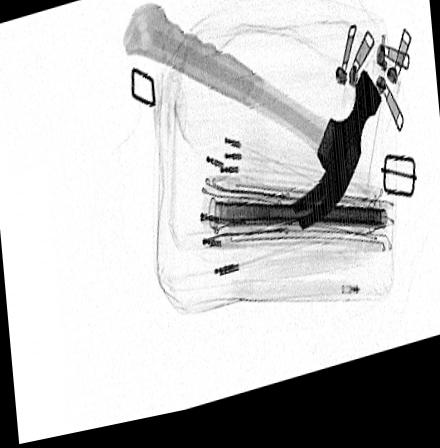Hammer: (121, 6, 382, 244)
